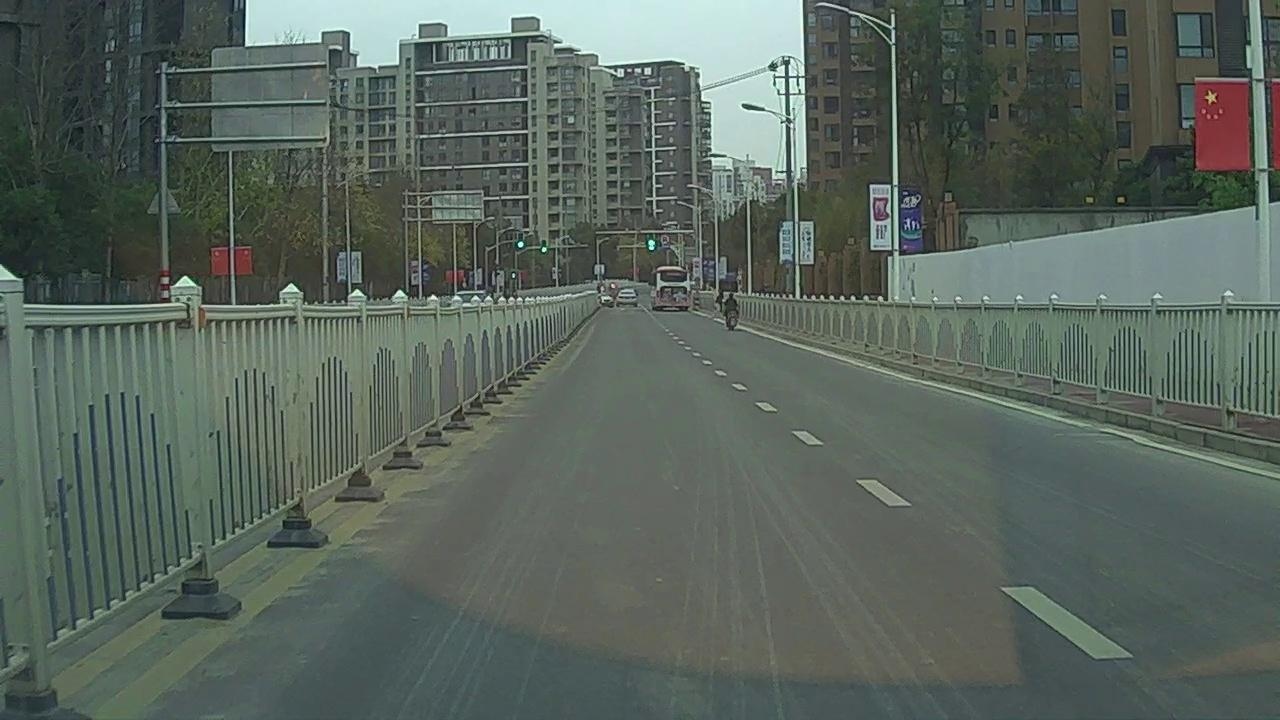traffic_light: (647, 232, 656, 252), (518, 233, 524, 250), (541, 238, 547, 253)
